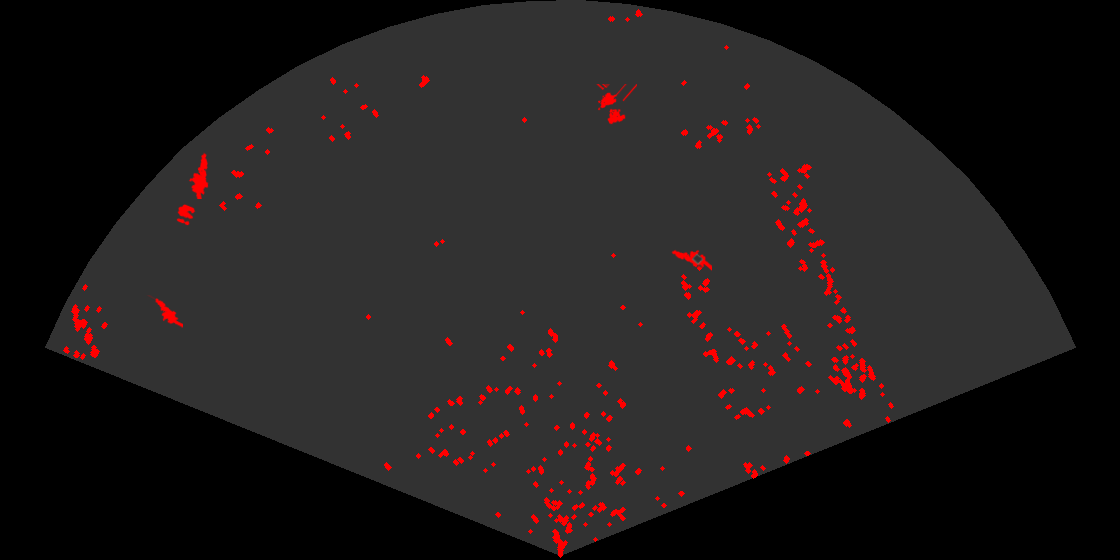ball: (175, 203, 197, 227)
cage: (595, 84, 637, 126)
frogman: (146, 295, 183, 328), (187, 152, 210, 199), (670, 248, 712, 273)
